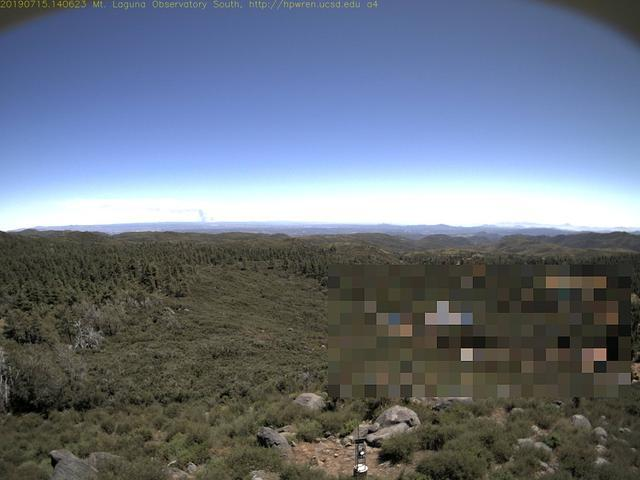smoke: (193, 206, 213, 225)
